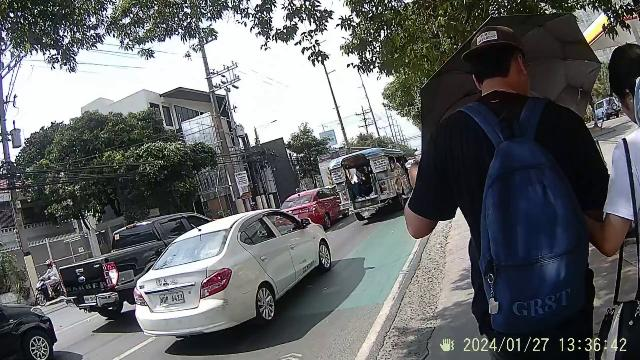utility_post: (198, 35, 246, 161)
